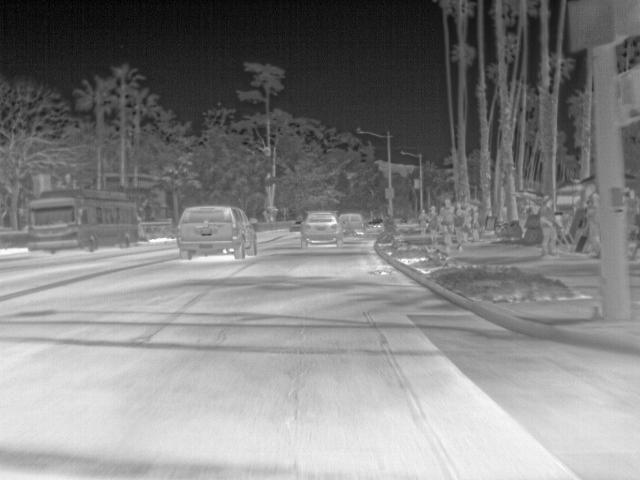car: (173, 203, 259, 258), (300, 209, 343, 245), (335, 212, 366, 237), (366, 218, 385, 234), (288, 220, 304, 234)
person: (539, 196, 560, 252), (440, 196, 456, 239), (453, 197, 468, 234), (426, 204, 439, 236), (417, 208, 429, 228)
